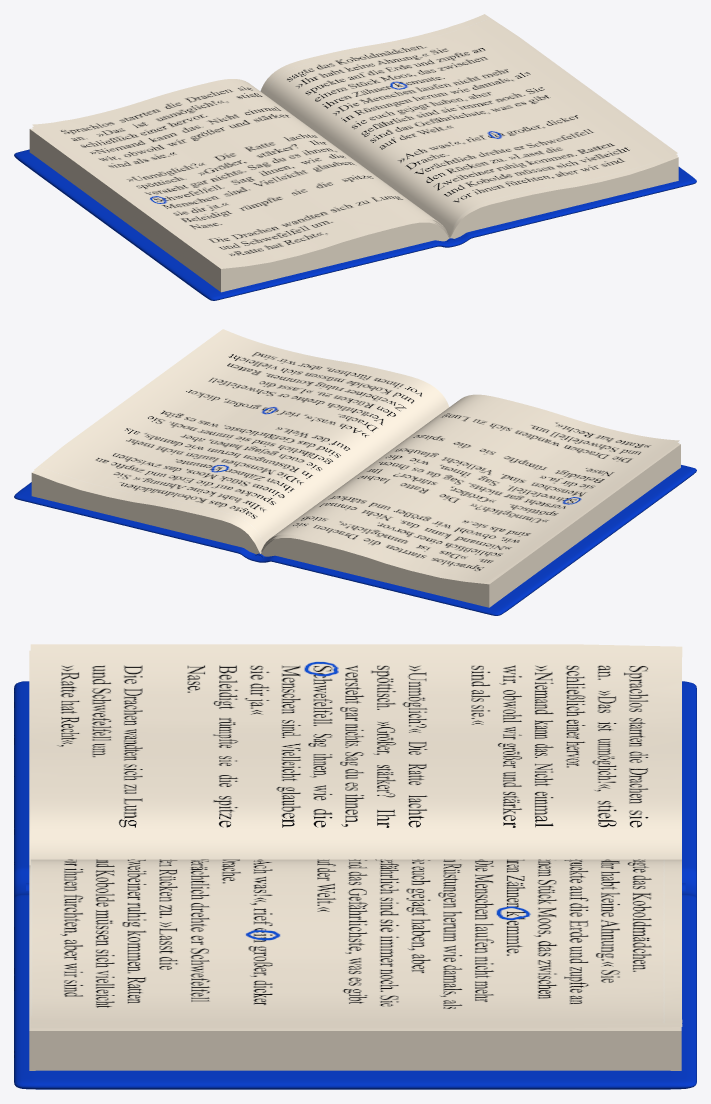
Rendered from blueBook.fbx.
The picture shows the model from 3 angles, top to bottom: view 1: azimuth 30°, elevation 25°; view 2: azimuth 150°, elevation 25°; view 3: azimuth 270°, elevation 25°; orthographic projection. The views are drawn at different scales.
Parts seen in each view (by area): view 1: page_top_right, page_top_left, lower_left, Book_Cover_base, lower_right, page_top_left_2, page_top_right_2; view 2: page_top_right, page_top_left, lower_left, Book_Cover_base, lower_right, page_top_left_2, page_top_right_2; view 3: page_top_left, page_top_right, lower_right, Book_Cover_base, page_top_right_2.
Part boxes in pixels (left/top/right/bottom): page_top_right: left=260, top=14, right=677, bottom=237; page_top_left: left=32, top=79, right=449, bottom=264; lower_left: left=29, top=128, right=449, bottom=292; Book_Cover_base: left=14, top=149, right=696, bottom=300; lower_right: left=449, top=156, right=678, bottom=238; page_top_left_2: left=32, top=126, right=447, bottom=266; page_top_right_2: left=450, top=154, right=677, bottom=236; page_top_right: left=34, top=329, right=449, bottom=552; page_top_left: left=261, top=394, right=679, bottom=580; lower_left: left=261, top=444, right=680, bottom=607; Book_Cover_base: left=14, top=465, right=696, bottom=615; lower_right: left=31, top=470, right=259, bottom=554; page_top_left_2: left=261, top=442, right=679, bottom=582; page_top_right_2: left=34, top=471, right=260, bottom=553; page_top_left: left=30, top=644, right=682, bottom=859; page_top_right: left=30, top=859, right=682, bottom=1024; lower_right: left=29, top=865, right=681, bottom=1070; Book_Cover_base: left=14, top=681, right=696, bottom=1089; page_top_right_2: left=30, top=1023, right=682, bottom=1028.
Size of the model in its own units: 101 by 7.04 by 71.91.
Materials: 3 (2 with a texture image).
